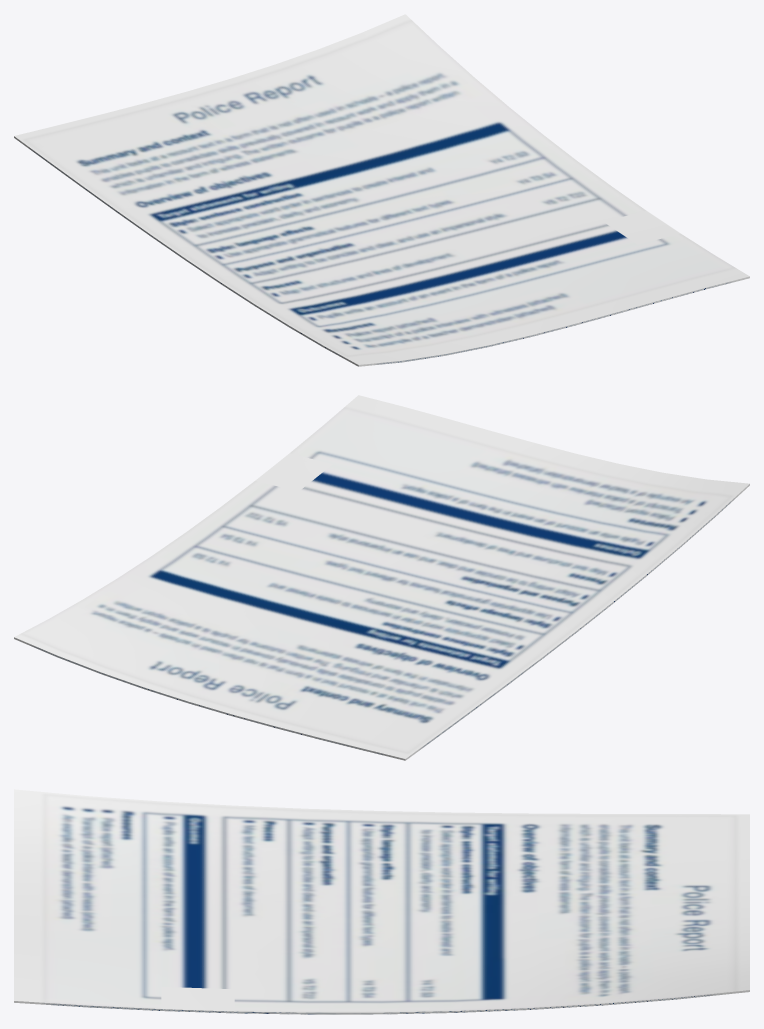
File: Paper 2.FBX
3 renders of one model, top to bottom at view 1: azimuth 30°, elevation 25°; view 2: azimuth 150°, elevation 25°; view 3: azimuth 270°, elevation 25°, orthographic. The views are drawn at different scales.
Parts seen in each view (by area): view 1: Paper 2; view 2: Paper 2; view 3: Paper 2.
Part boxes in pixels (left/top/right/bottom): Paper 2: left=14, top=14, right=749, bottom=366; Paper 2: left=14, top=395, right=749, bottom=760; Paper 2: left=14, top=789, right=749, bottom=1014.
Bounding box in the file's own units: 21.15 × 1.45 × 32.23.
1 material, 1 textured.
